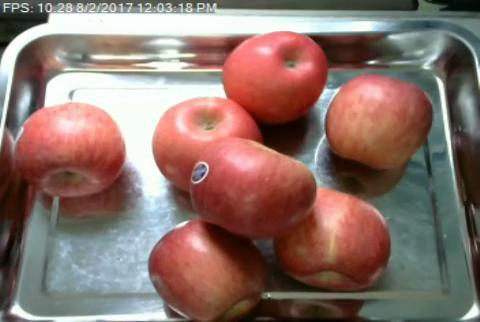apple: (190, 138, 316, 238), (278, 186, 390, 290), (148, 224, 268, 320), (14, 104, 126, 199), (153, 96, 262, 190), (326, 76, 433, 171), (222, 32, 328, 122)
